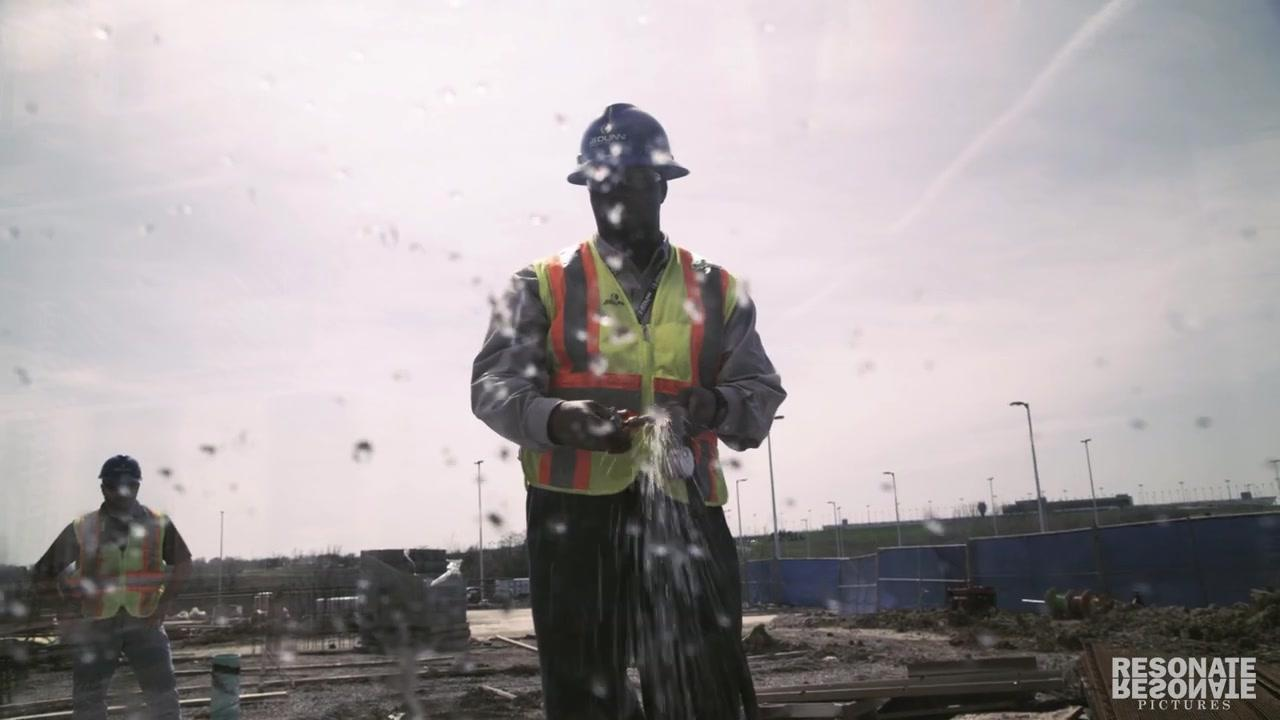vest: (517, 243, 745, 505), (68, 504, 175, 619)
